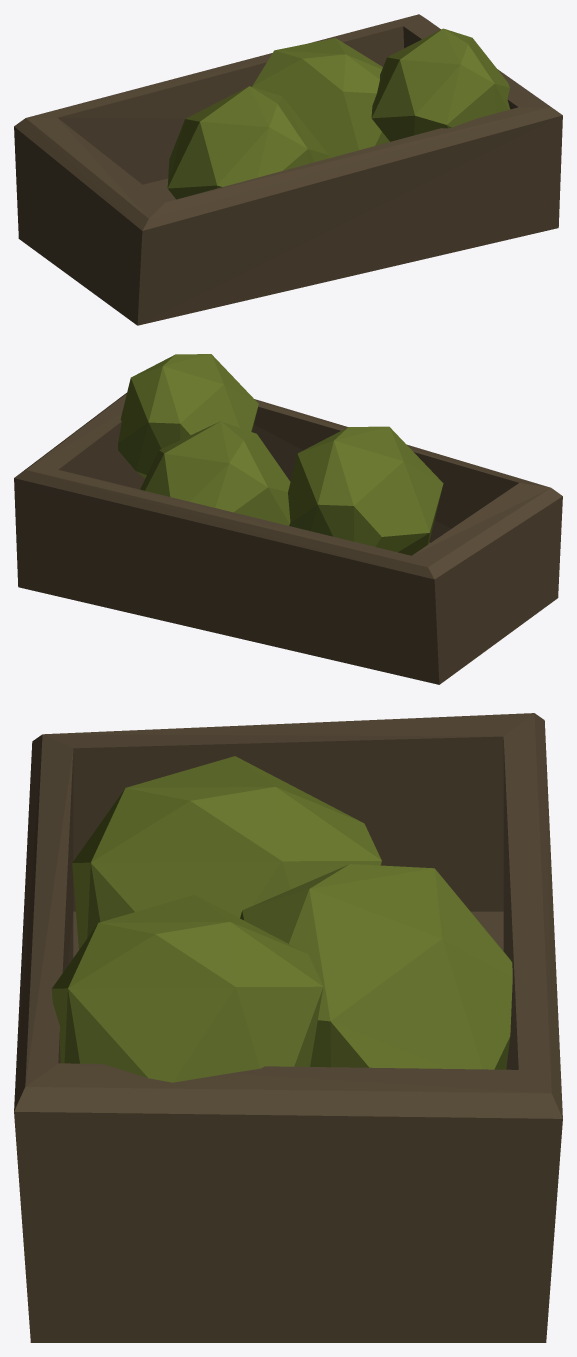
The model's file is EA03_Prop_Vegetable_Basket_02.glb.
3 views of the same model, one above another, from view 1: azimuth 30°, elevation 25°; view 2: azimuth 150°, elevation 25°; view 3: azimuth 270°, elevation 25° (orthographic). The views are drawn at different scales.
Parts seen in each view (by area): view 1: EA03_Prop_Vegetable_Basket_02; view 2: EA03_Prop_Vegetable_Basket_02; view 3: EA03_Prop_Vegetable_Basket_02.
Boxes of the visible parts, <box> form: EA03_Prop_Vegetable_Basket_02: <box>14,14,562,325</box>; EA03_Prop_Vegetable_Basket_02: <box>14,354,562,684</box>; EA03_Prop_Vegetable_Basket_02: <box>14,713,562,1342</box>.
Bounding box in the file's own units: 1.04 × 0.427 × 0.5946.
1 material, 1 textured.
